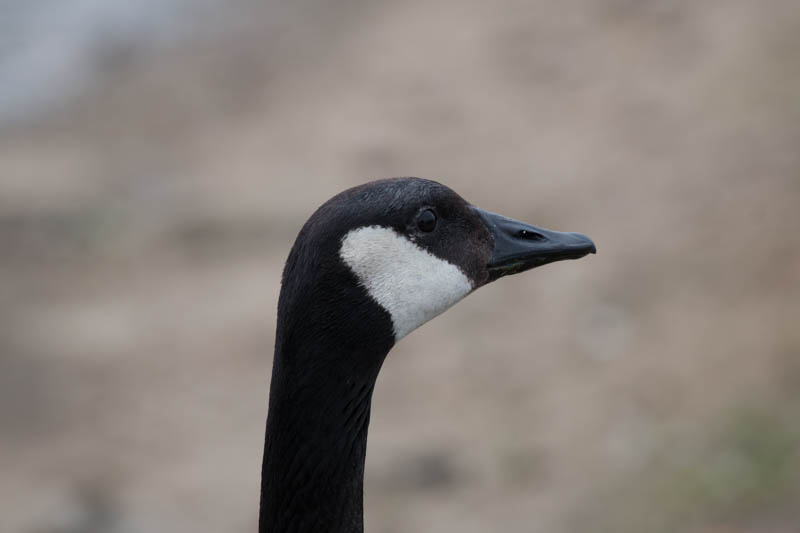goose-head: (275, 177, 598, 345)
